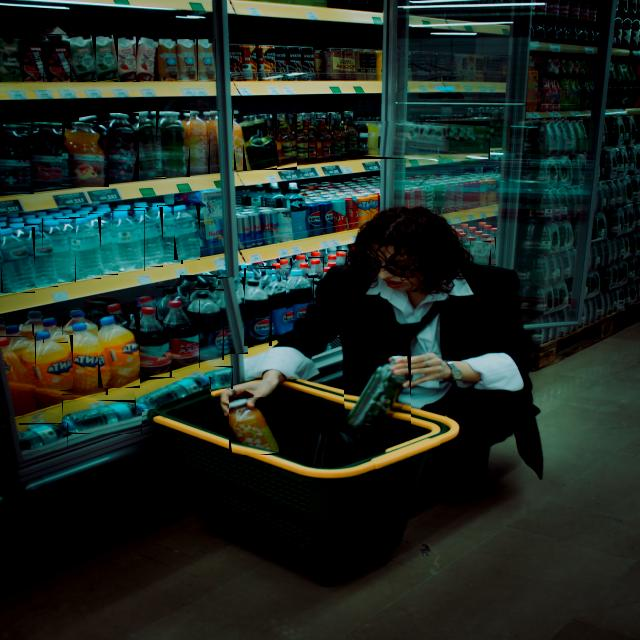Bottle: (343, 356, 410, 430), (62, 323, 106, 395), (97, 315, 138, 388), (22, 330, 71, 391), (61, 123, 107, 186), (228, 397, 277, 455), (31, 123, 72, 188), (0, 337, 34, 415), (61, 401, 140, 434), (133, 308, 170, 377), (162, 300, 199, 368), (186, 290, 222, 359), (102, 114, 137, 181), (134, 378, 210, 408), (130, 112, 164, 179), (0, 125, 32, 193), (156, 111, 188, 177), (0, 228, 32, 292), (42, 219, 74, 282), (23, 225, 56, 286), (68, 217, 100, 279), (111, 210, 143, 271), (179, 110, 209, 173), (262, 274, 292, 335), (243, 280, 270, 346), (243, 115, 275, 170), (88, 214, 116, 274), (134, 208, 161, 266), (156, 205, 182, 264), (42, 34, 74, 81), (285, 269, 312, 319), (174, 204, 198, 259), (18, 423, 66, 450), (69, 36, 95, 81), (202, 110, 220, 173), (92, 36, 117, 81), (274, 114, 295, 166), (155, 287, 189, 319), (0, 33, 22, 82), (114, 37, 138, 81), (154, 39, 178, 81), (61, 309, 98, 335), (135, 38, 157, 81), (216, 278, 228, 354), (340, 112, 359, 159), (6, 325, 32, 359), (231, 110, 245, 171), (176, 40, 196, 81), (291, 114, 308, 162), (195, 40, 214, 81), (329, 113, 345, 159), (20, 310, 45, 339), (78, 115, 102, 145), (301, 114, 315, 162), (204, 366, 233, 389), (315, 118, 332, 157), (108, 303, 132, 329), (42, 317, 66, 343), (137, 296, 160, 321), (352, 124, 368, 159), (470, 242, 489, 265), (179, 276, 196, 299), (257, 267, 274, 288), (308, 257, 324, 278), (485, 238, 495, 265), (279, 259, 291, 279), (335, 250, 346, 265), (0, 318, 6, 337)
